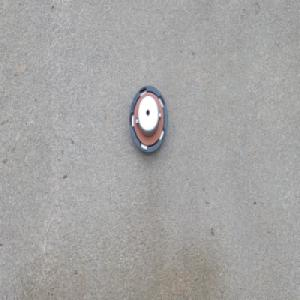FuelCap: (127, 84, 168, 157)
